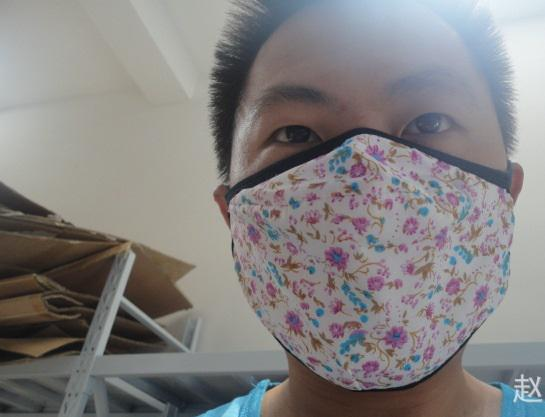OK: (240, 68, 518, 346)
